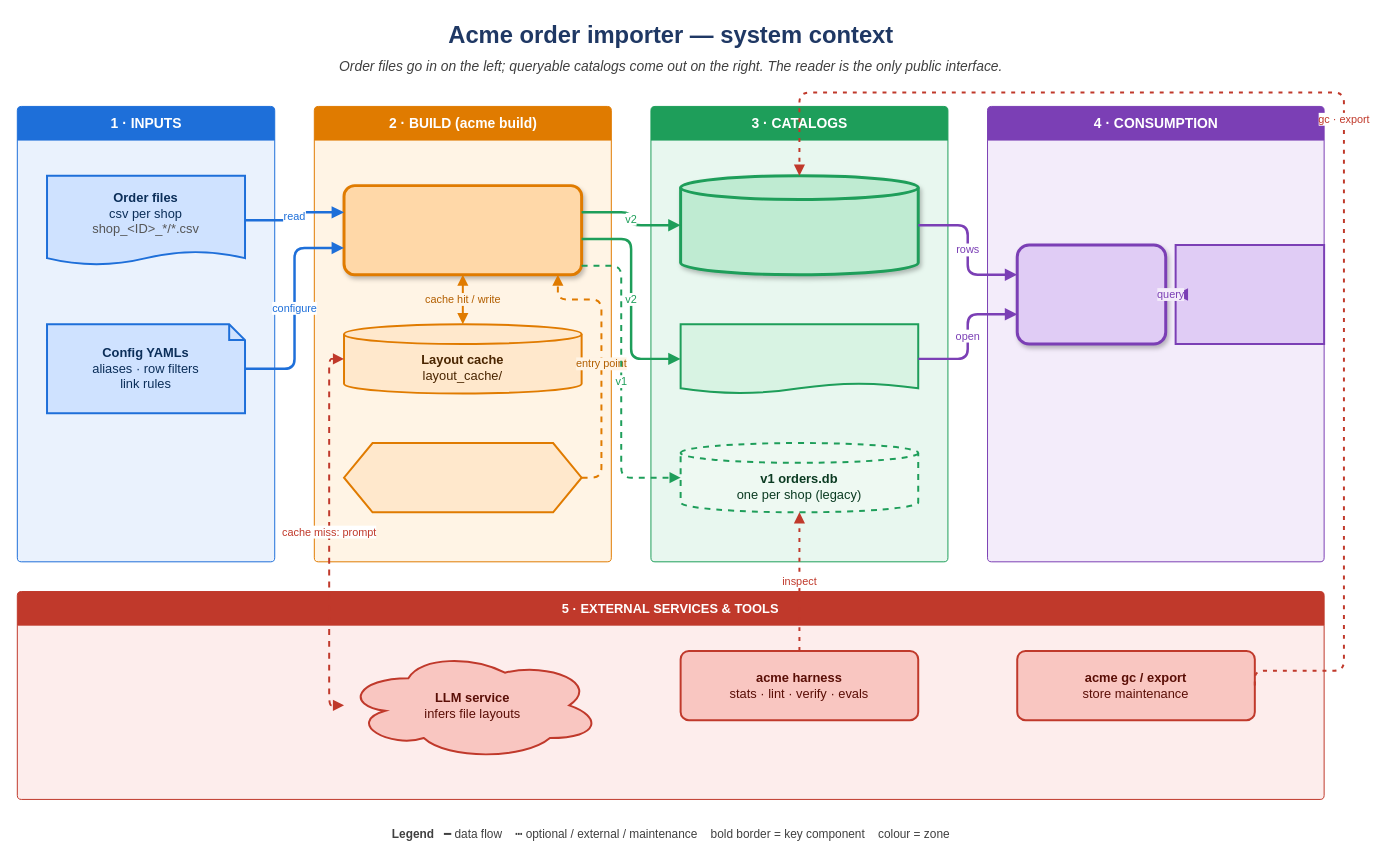
Image size: 1387x865. Some labels were removed from this diagram. The shapes that lost their labels are listed below. From the top down, each one's centre as x and y in pixels, then its label:
[463,231]: acme build --format v1 | v2 pipeline/build.py · build_v2
[800,226]: v2 store orders.db · items/
[1092,295]: reader.open() public interface stdlib only
[1249,294]: Billing service consuming app
[799,358]: manifest.json one per shop
[462,477]: Plug-ins parse/link/lint
